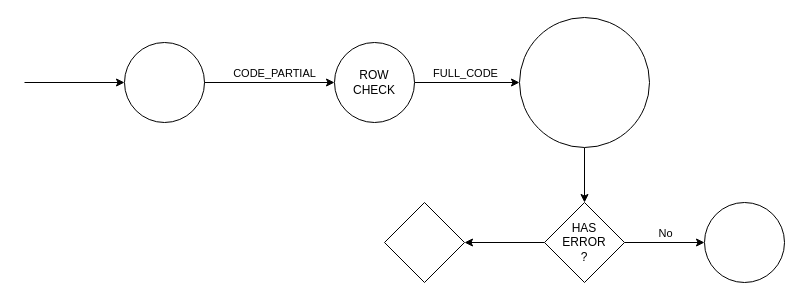
Image size: 802x300. Some labels were removed from this diagram. The centre of each missing label's shape, as x and y in pixels:
Additional ROW CHECK & COLUMN CHECK: (584,82)
IDLE: (164,82)
